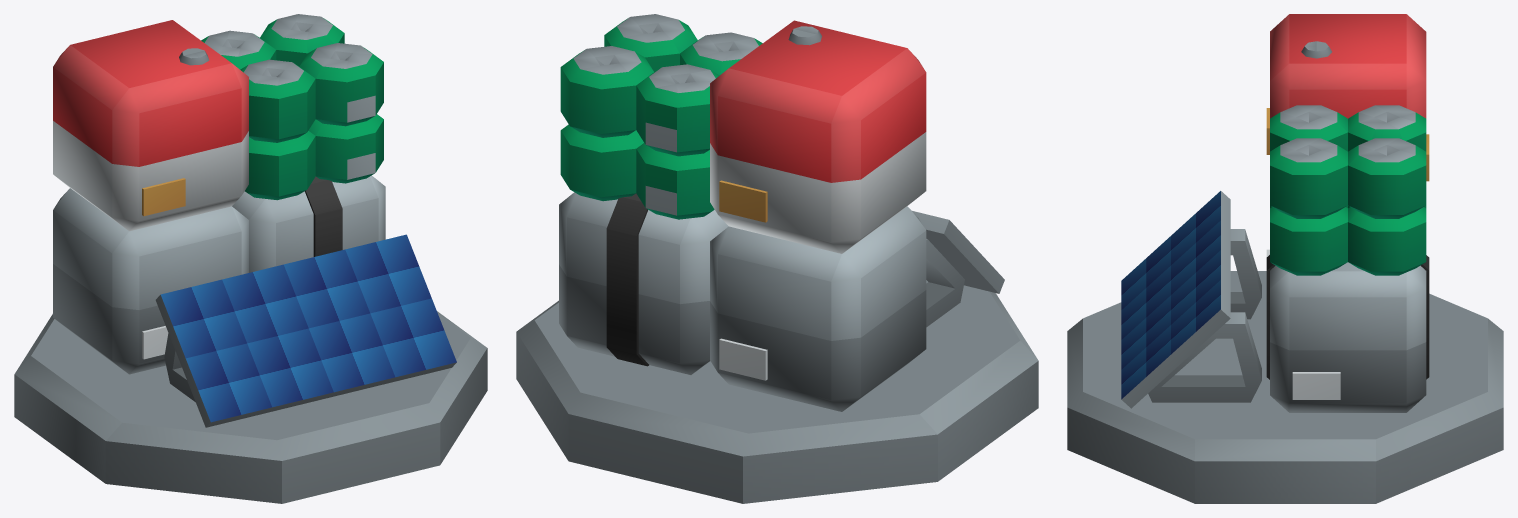
Rendered from kaykit_roofmodule_cargo_c_v01.glb.
3 views of the same model, side by side, from view 1: azimuth 30°, elevation 25°; view 2: azimuth 150°, elevation 25°; view 3: azimuth 270°, elevation 25° (orthographic). The views are drawn at different scales.
Visible parts, largest first — view 1: roofmodule_cargo_C; view 2: roofmodule_cargo_C; view 3: roofmodule_cargo_C.
Part boxes in pixels (left/top/right/bottom): roofmodule_cargo_C: left=14, top=14, right=487, bottom=503; roofmodule_cargo_C: left=516, top=14, right=1038, bottom=503; roofmodule_cargo_C: left=1067, top=14, right=1503, bottom=503.
Size of the model in its own units: 1.4 by 1.22 by 1.4.
Materials: 1 (1 with a texture image).
